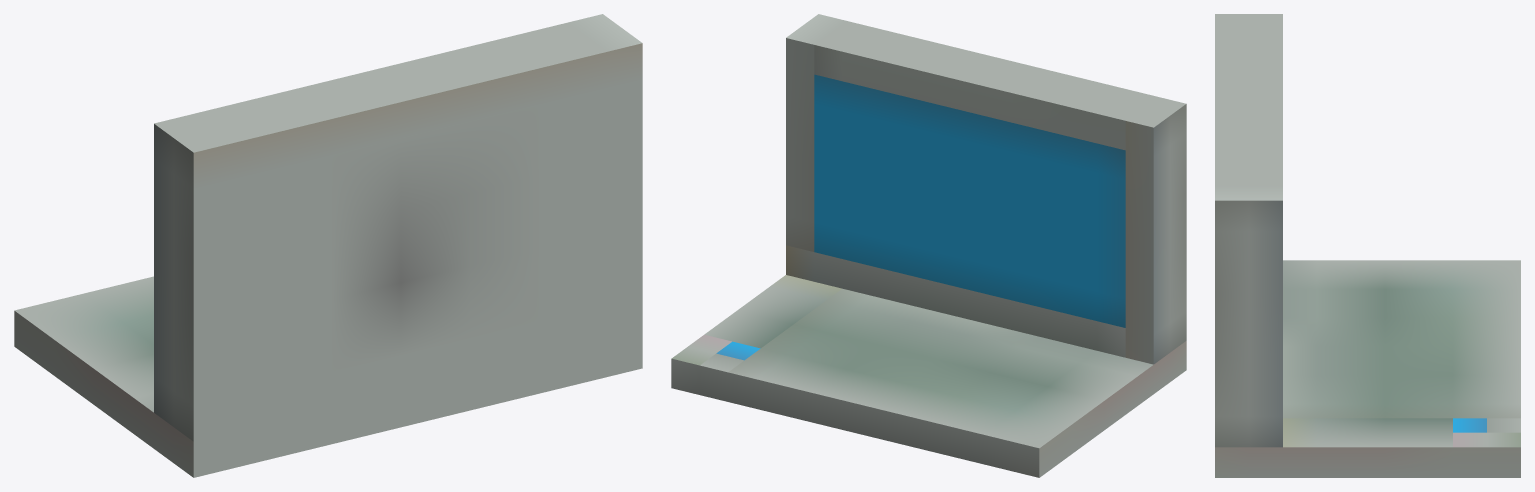
The model's file is Laptop_00.obj.
3 views of the same model, side by side, from view 1: azimuth 30°, elevation 25°; view 2: azimuth 150°, elevation 25°; view 3: azimuth 270°, elevation 25° (orthographic). The views are drawn at different scales.
Parts seen in each view (by area): view 1: Laptop_00; view 2: Laptop_00; view 3: Laptop_00.
Part boxes in pixels (bbox=[...]): Laptop_00: bbox=[14, 14, 642, 477]; Laptop_00: bbox=[671, 14, 1186, 477]; Laptop_00: bbox=[1215, 14, 1520, 477].
Bounding box in the file's own units: 0.65 × 0.45 × 0.45.
